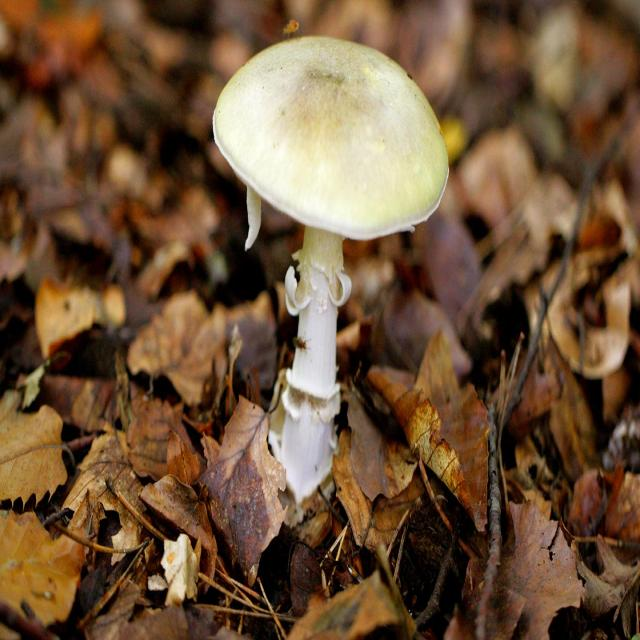death-cap: (212, 36, 450, 497)
